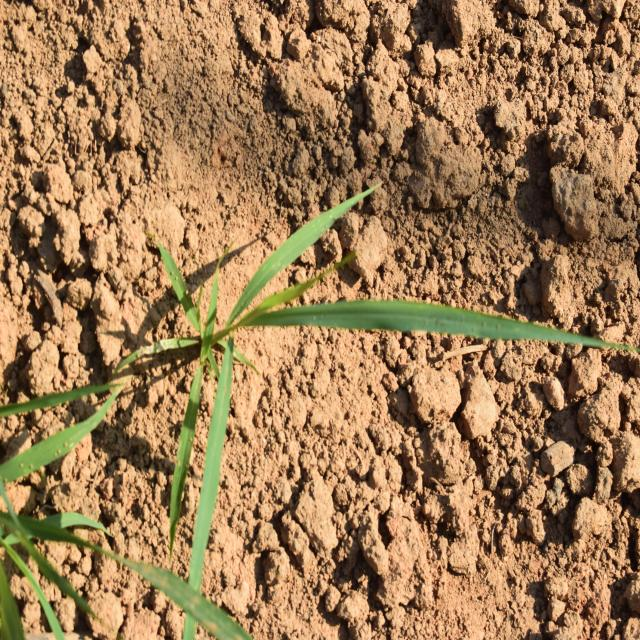green_foxtail: (145, 210, 458, 476)
